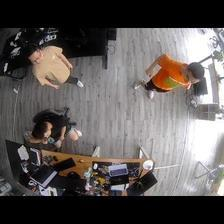normal: (134, 53, 204, 104), (25, 44, 84, 91), (24, 110, 82, 154)
